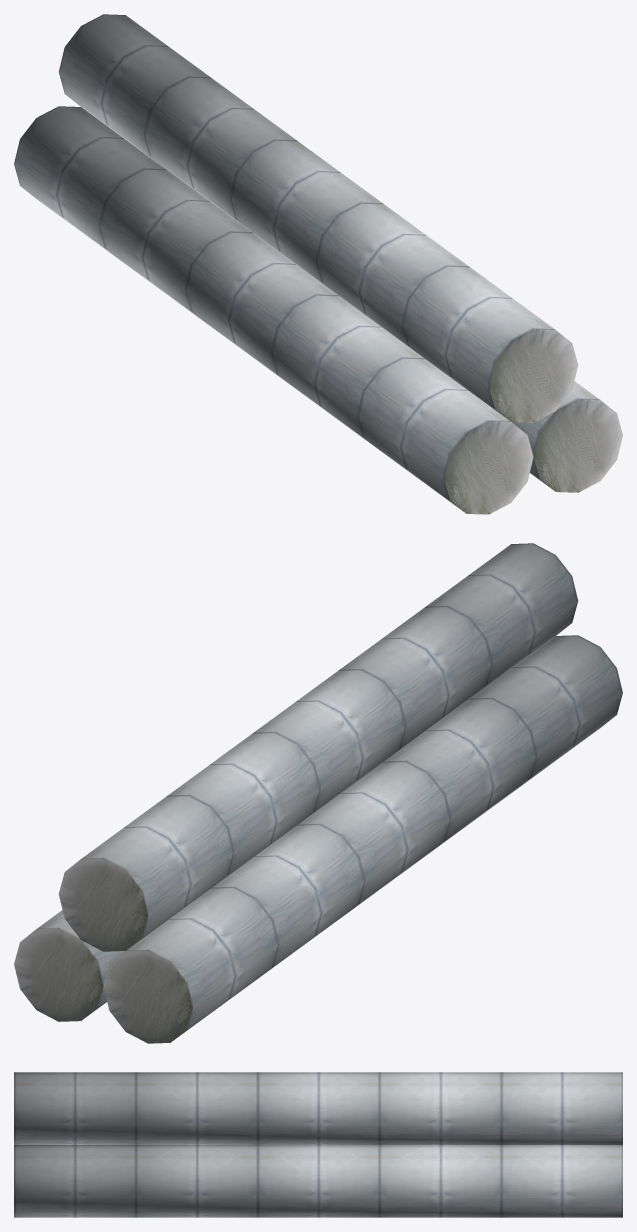
File: hay-bale-plastic-3x10-cbj_LOD01.gltf
3 views of the same model, one above another, from view 1: azimuth 30°, elevation 25°; view 2: azimuth 150°, elevation 25°; view 3: azimuth 270°, elevation 25° (orthographic). The views are drawn at different scales.
Visible parts, largest first — view 1: Cube.001; view 2: Cube.001; view 3: Cube.001.
Boxes of the visible parts, <box> form: Cube.001: <box>14,14,622,514</box>; Cube.001: <box>14,543,622,1043</box>; Cube.001: <box>14,1072,622,1217</box>.
Size of the model in its own units: 3.6 by 3.36 by 15.
